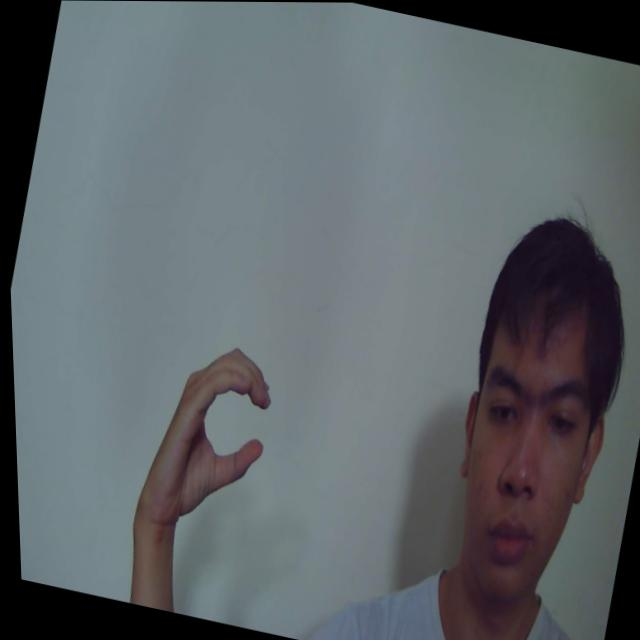C: (125, 330, 284, 542)
